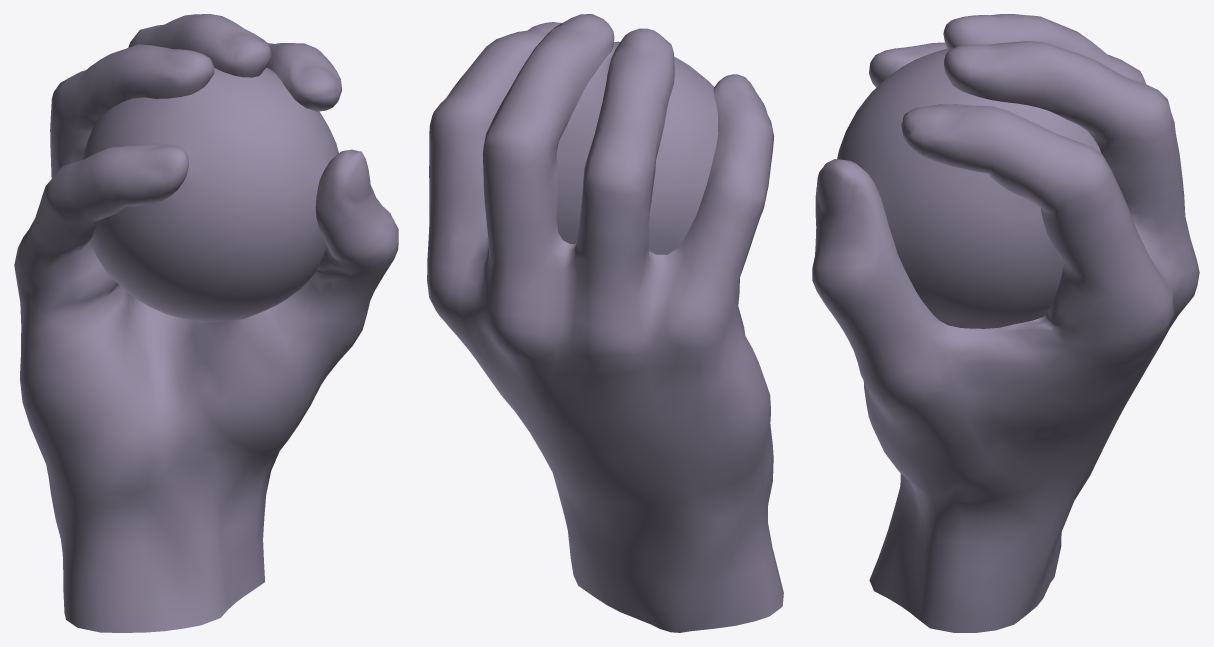
File: 手_20260324201953_opt.glb
3 views of the same model, side by side, from view 1: azimuth 30°, elevation 25°; view 2: azimuth 150°, elevation 25°; view 3: azimuth 270°, elevation 25° (orthographic). The views are drawn at different scales.
Visible parts, largest first — view 1: Plane023; view 2: Plane023; view 3: Plane023.
Boxes of the visible parts, box(x1,y1,x2,y2) form: Plane023: box(14, 14, 398, 632); Plane023: box(427, 14, 783, 632); Plane023: box(812, 14, 1199, 632).
Bounding box in the file's own units: 0.1017 × 0.1783 × 0.106.
